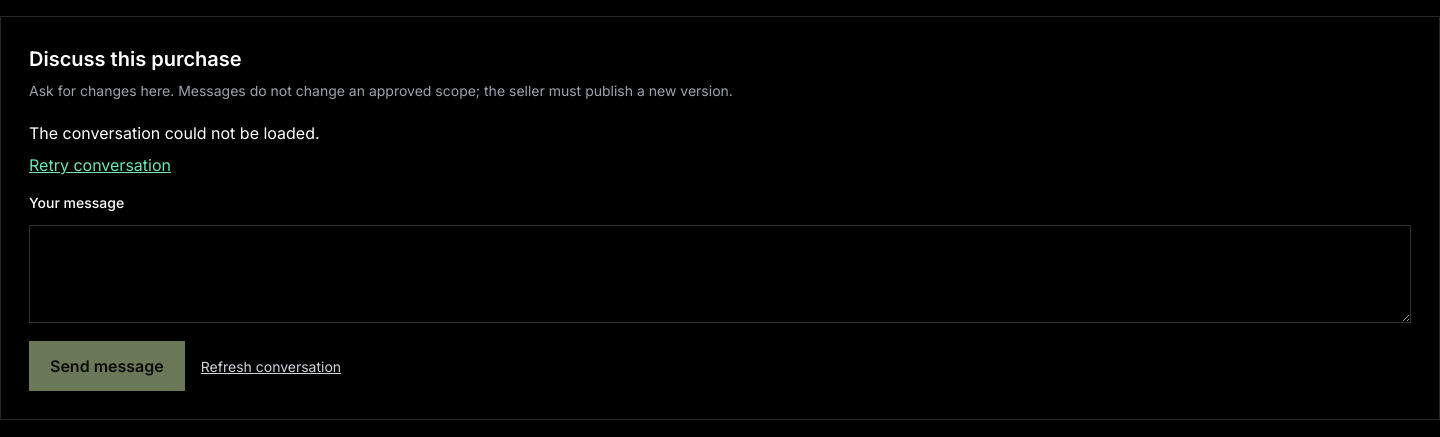
Test case: failed conversation load is explicit and can be refreshed
Expected: the message "The conversation could not be loaded. Retry conversation" is shown, [29,123,320,177]
Expected: the text "No messages yet." is not shown
Click the button "Retry conversation": [100, 165] box [29,153,171,177]
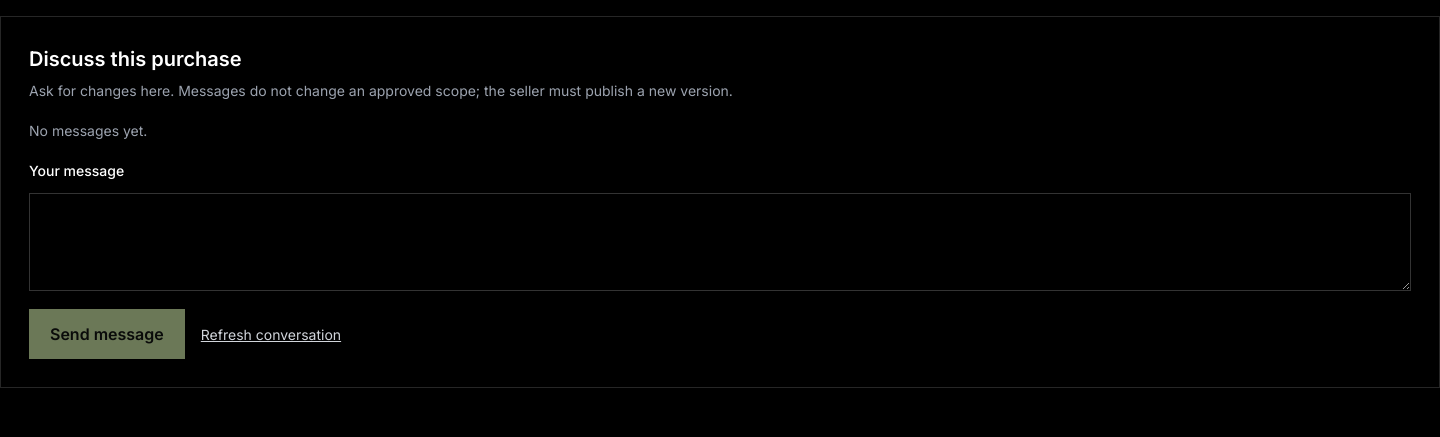
Result: the text "No messages yet." is shown at [29,122,147,139]
